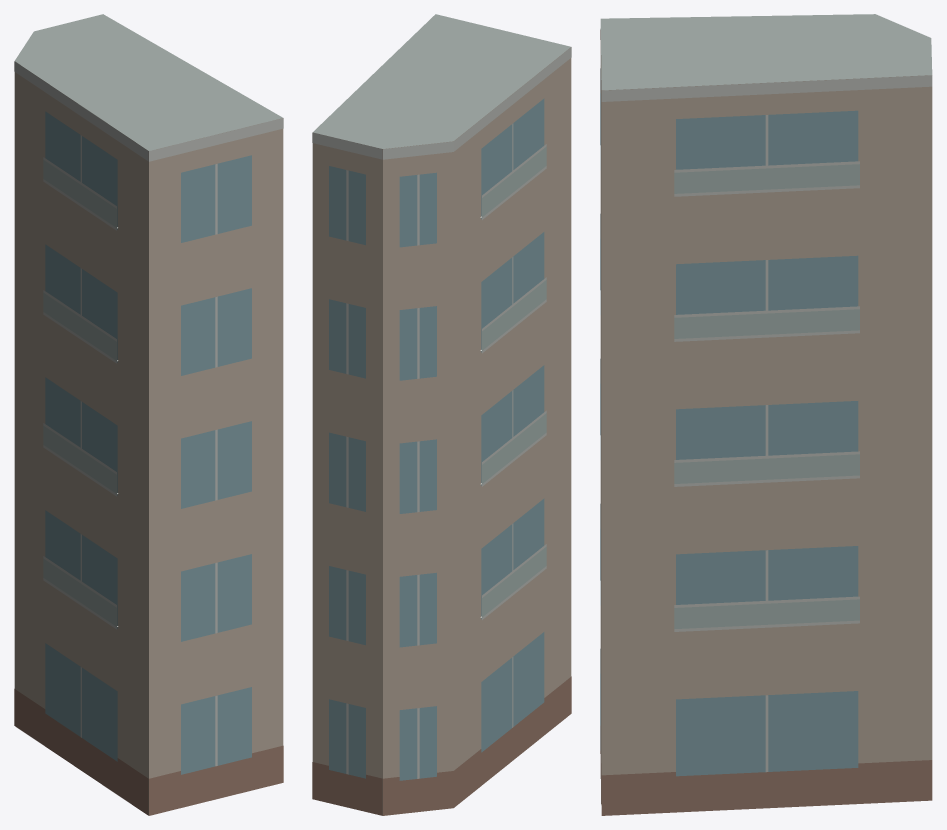
The model's file is survey-upis-32544045.glb.
The picture shows the model from 3 angles, left to right: view 1: azimuth 30°, elevation 25°; view 2: azimuth 150°, elevation 25°; view 3: azimuth 270°, elevation 25°; orthographic projection. The views are drawn at different scales.
Parts seen in each view (by area): view 1: survey-upis-32544045.tmp; view 2: survey-upis-32544045.tmp; view 3: survey-upis-32544045.tmp.
Part boxes in pixels (bbox=[...]): survey-upis-32544045.tmp: bbox=[14, 14, 283, 815]; survey-upis-32544045.tmp: bbox=[312, 14, 571, 815]; survey-upis-32544045.tmp: bbox=[600, 14, 932, 815].
Size of the model in its own units: 3.46 by 15.25 by 6.33.
